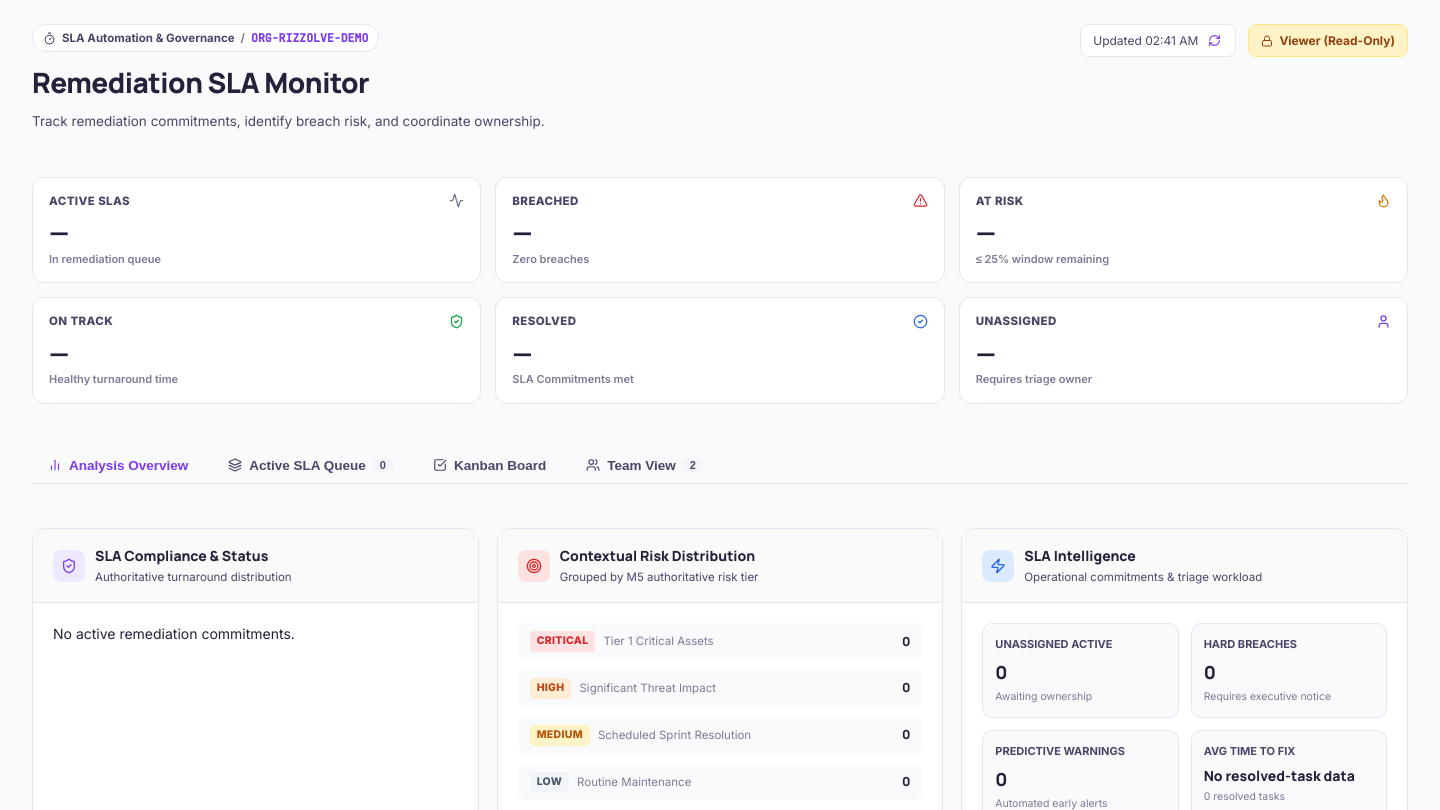
Test: Remediation SLA Monitor Component › 9. switches to Team View and renders SOC Operations Team card without duplicate in Unassigned
What coordinates should you click on to do the following:
click the text "Team View"
I would click on:
 (642, 465)
Its box is [607,458,676,473].
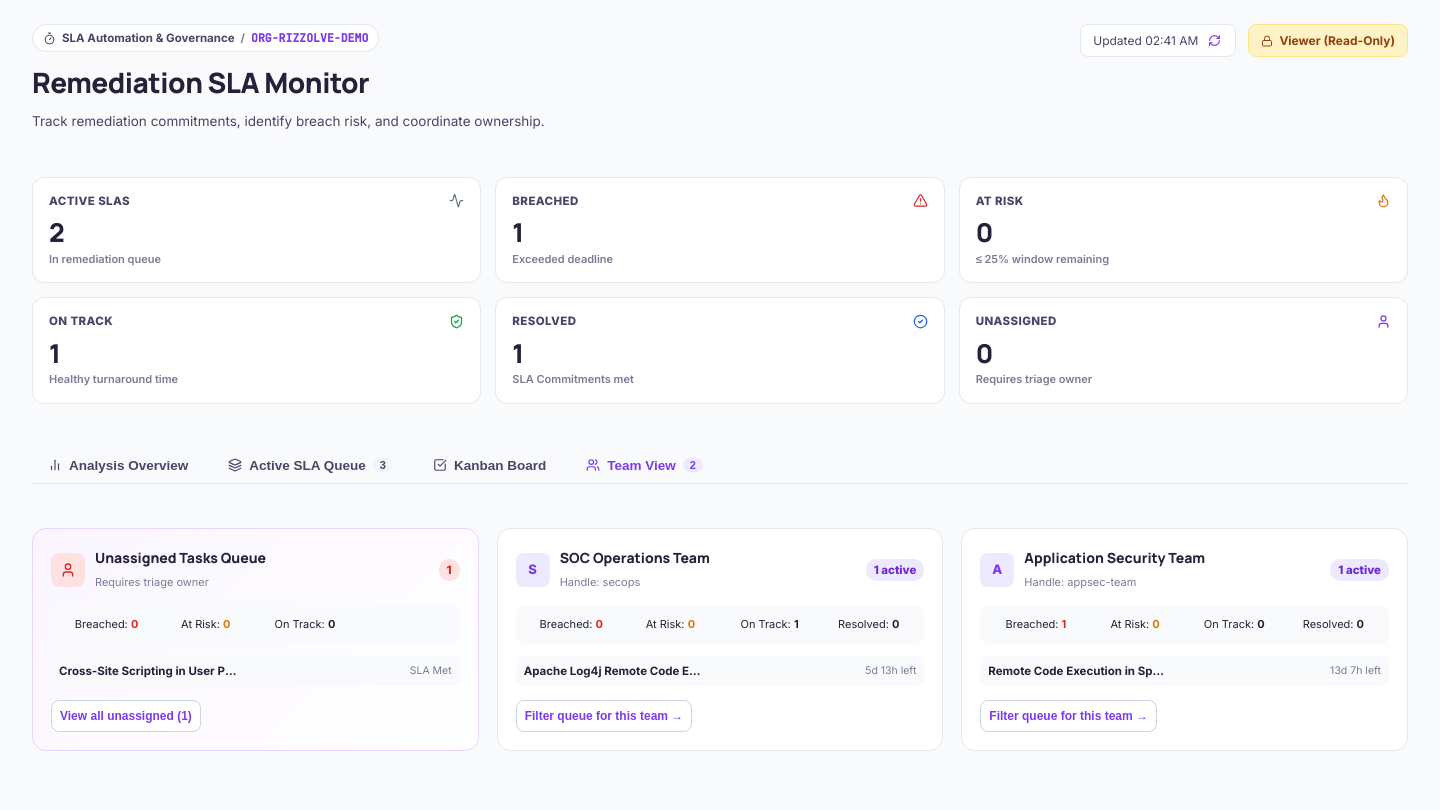
Expected: the heading "Unassigned Tasks Queue" is shown, [95,547,266,570]
Expected: the heading "SOC Operations Team" is shown, [560,547,710,570]
Expected: the heading "Application Security Team" is shown, [1024,547,1205,570]
